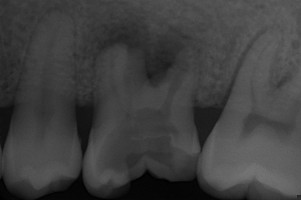Dental Caries: (99, 19, 190, 82)
